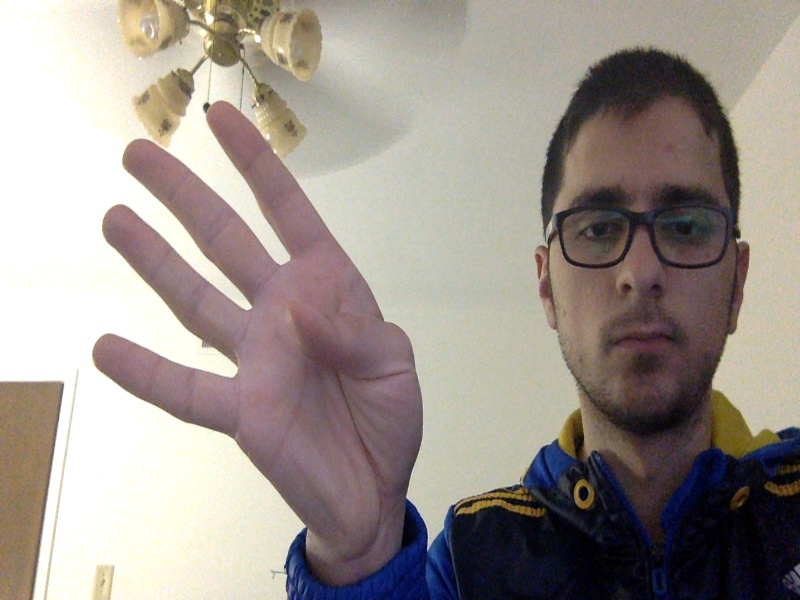4-hand: (91, 100, 425, 556)
